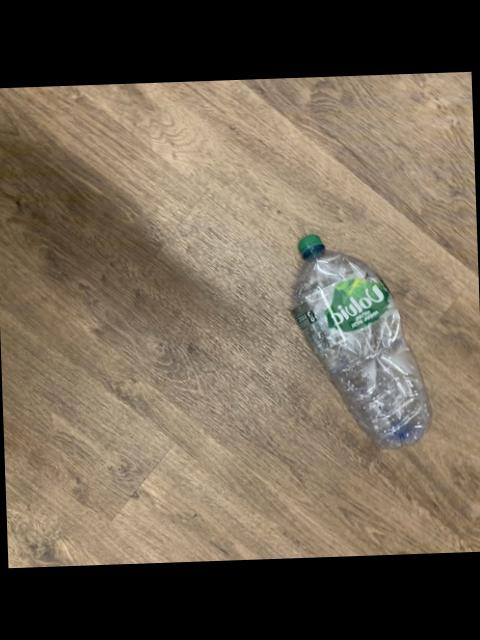plastic: (291, 234, 428, 447)
